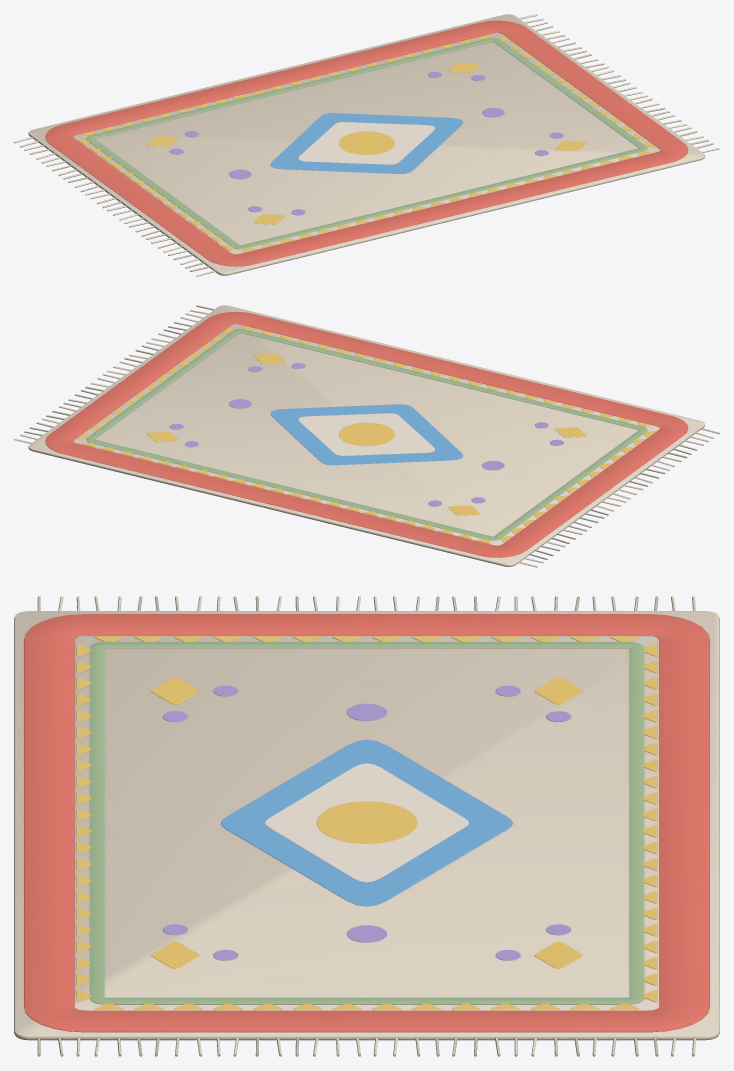
Rendered from rug.glb.
3 renders of one model, top to bottom at view 1: azimuth 30°, elevation 25°; view 2: azimuth 150°, elevation 25°; view 3: azimuth 270°, elevation 25°, orthographic. The views are drawn at different scales.
Parts seen in each view (by area): view 1: rug_body; view 2: rug_body; view 3: rug_body.
Boxes of the visible parts, x1,y1,x2,y2 form: rug_body: (14,14,719,276); rug_body: (14,305,719,567); rug_body: (14,596,719,1056).
Bounding box in the file's own units: 2.15 × 0.0119 × 1.4.
1 material, 1 textured.
